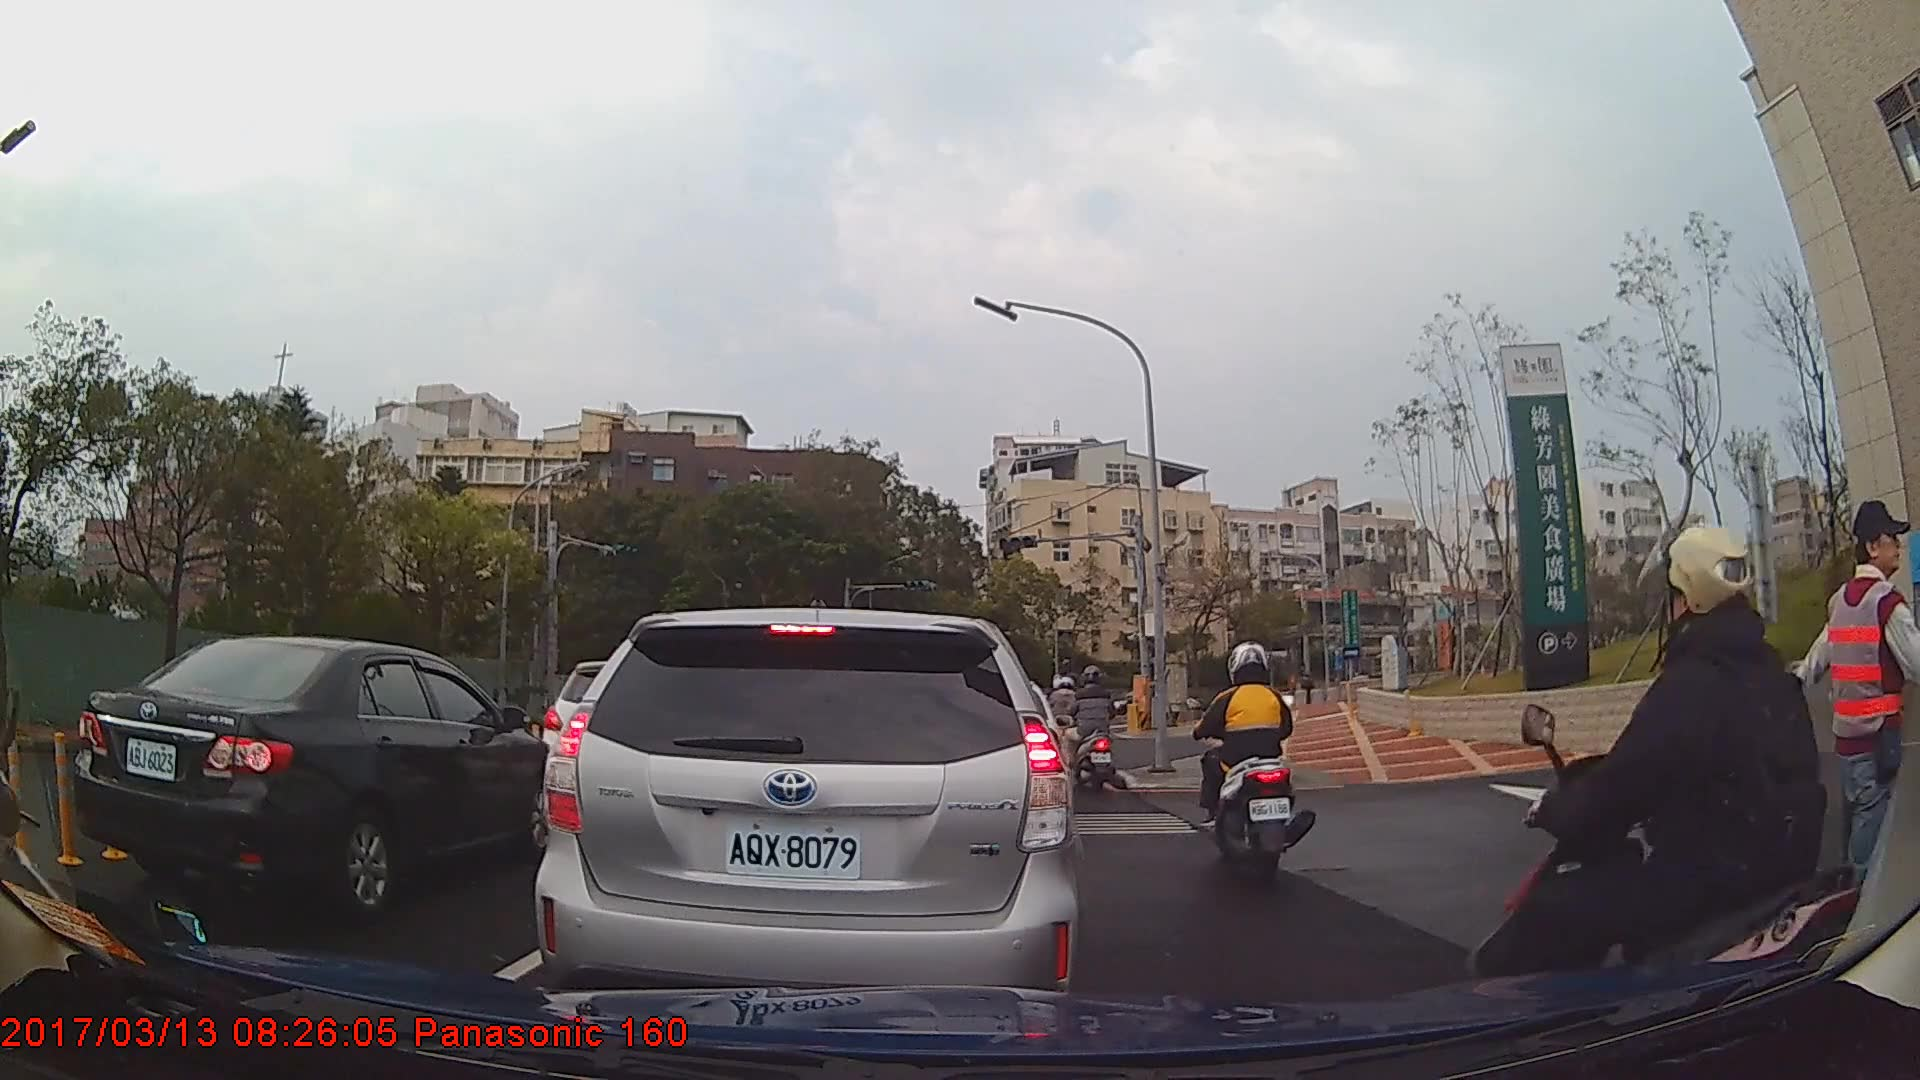pedestrian: (1756, 498, 1920, 978)
rider: (1454, 521, 1865, 1080), (1197, 640, 1318, 898), (1068, 669, 1121, 794)
vehicle: (535, 605, 1083, 1024), (76, 635, 576, 923)
